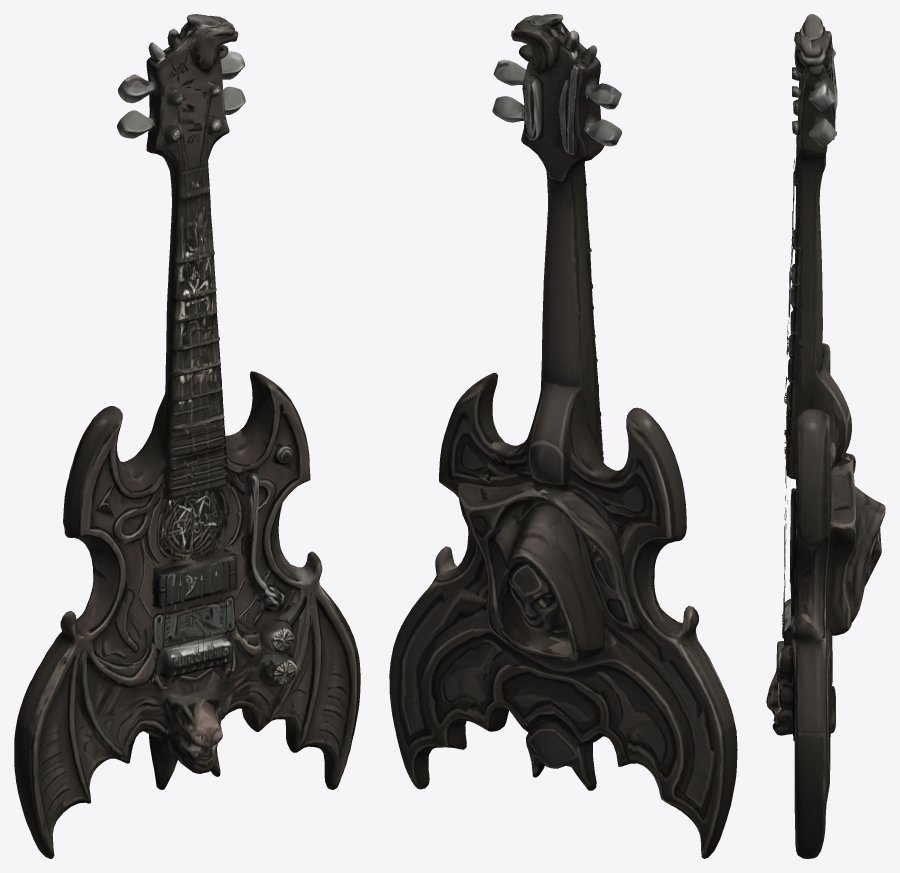
File: batguitare.glb
The picture shows the model from 3 angles, left to right: view 1: azimuth 30°, elevation 25°; view 2: azimuth 150°, elevation 25°; view 3: azimuth 270°, elevation 25°; orthographic projection. The views are drawn at different scales.
Visible parts, largest first — view 1: Batguitare; view 2: Batguitare; view 3: Batguitare.
Boxes of the visible parts, <box> form: Batguitare: <box>14,14,360,858</box>; Batguitare: <box>389,14,737,858</box>; Batguitare: <box>766,14,885,858</box>.
Size of the model in its own units: 0.476 by 1.08 by 0.1504.
1 material, 1 textured.
